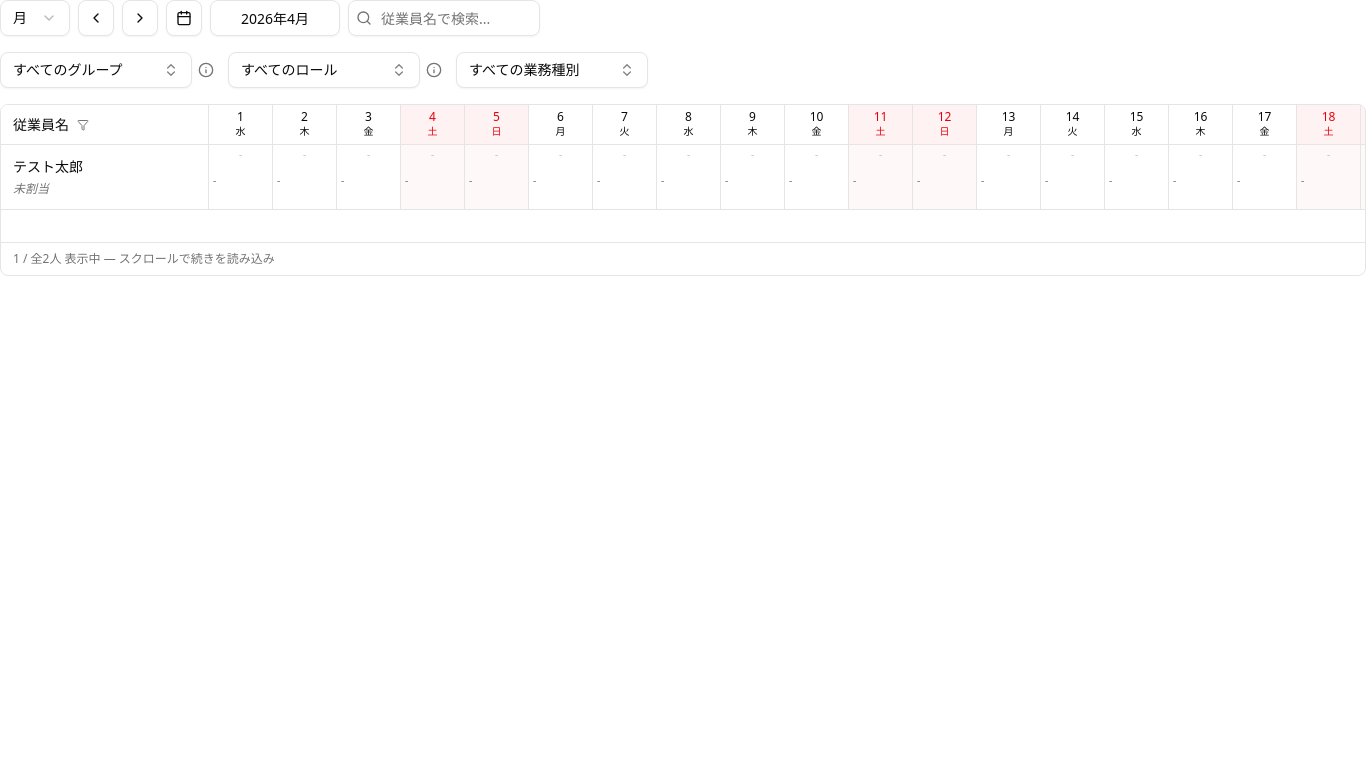
月次カレンダー 従業員名フィルター 選択肢の母集合 › 遅延読み込み済み data に居ない従業員も、roster 経由でフィルター選択肢に出る
The width and height of the screenshot is (1366, 768).
# 「従業員名」列フィルターを開く
What coordinates should you click on to do the following:
click the 9th button
I would click on:
 (83, 124)
Its box is 73,114 -> 93,134.
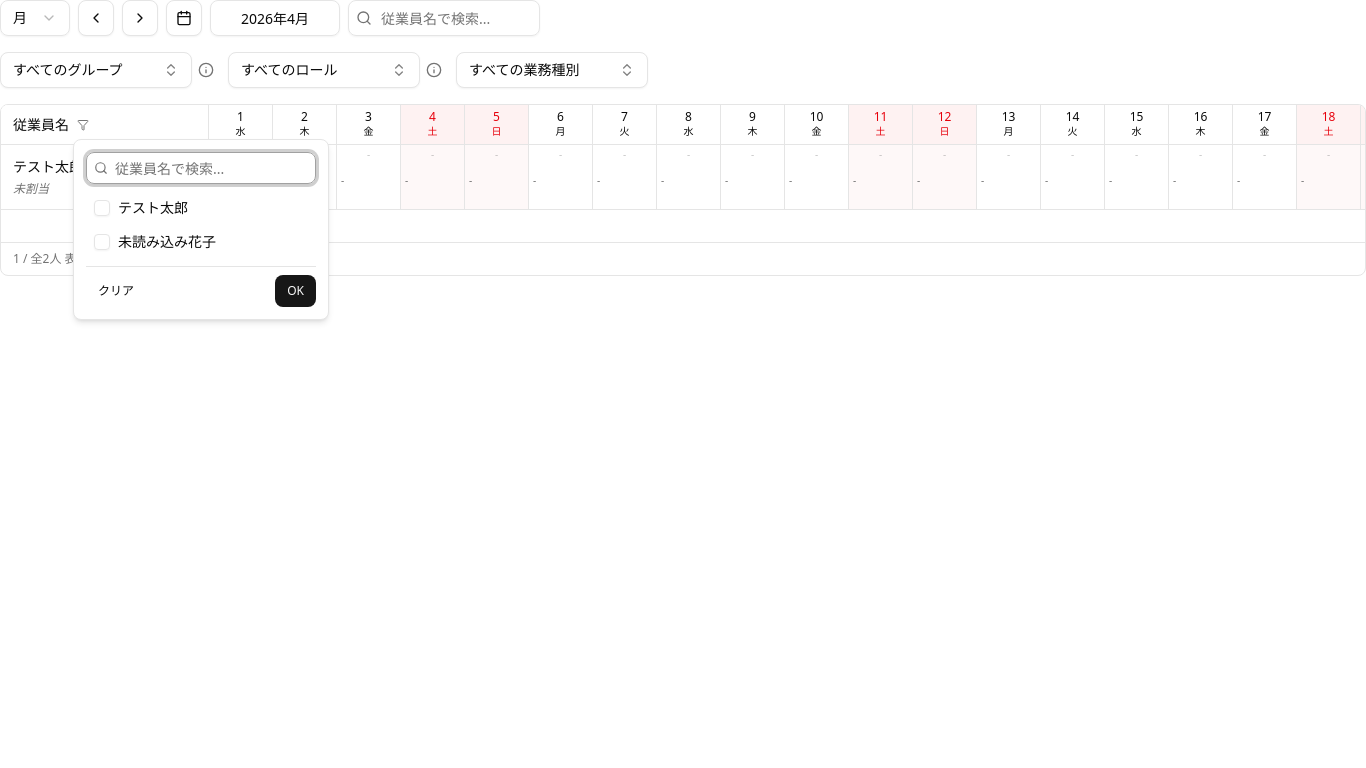
expect the text "未読み込み花子" is shown: met, box 118,232 -> 216,252
